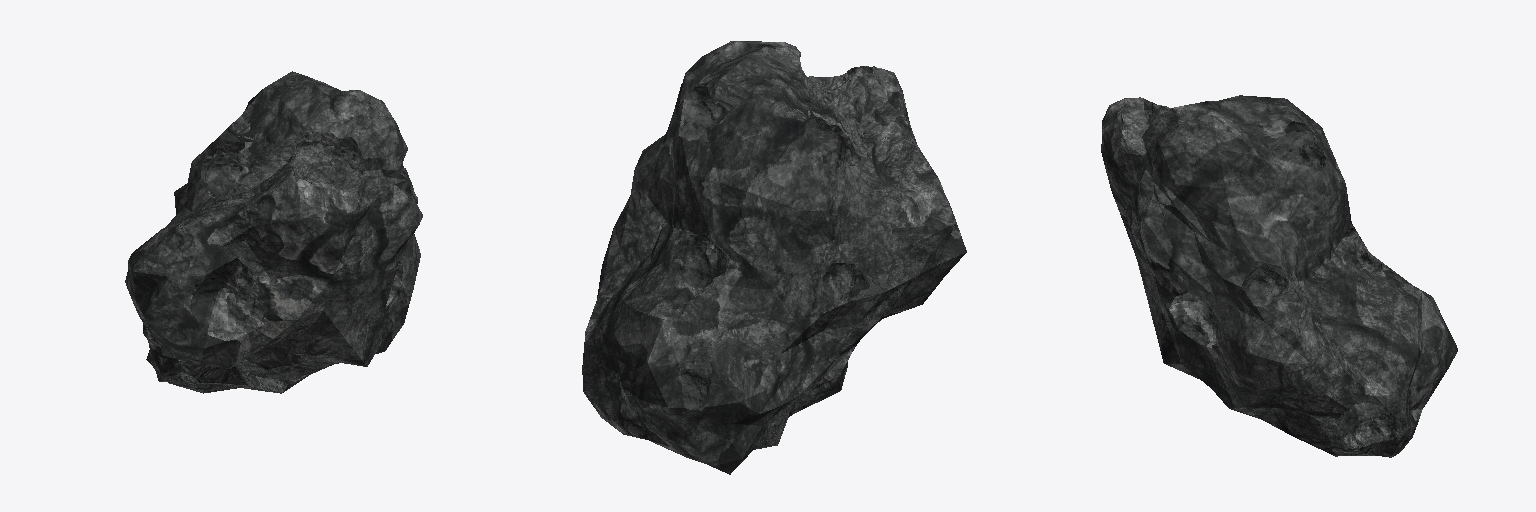
The picture shows the model from 3 angles: view 1: azimuth 30°, elevation 25°; view 2: azimuth 150°, elevation 25°; view 3: azimuth 270°, elevation 25°; orthographic projection.
Visible parts, largest first — view 1: Cube; view 2: Cube; view 3: Cube.
Part boxes in pixels (x1,y1,x2,y2): Cube: (125,71,422,393); Cube: (582,41,966,474); Cube: (1101,95,1457,457).
Size of the model in its own units: 10.98 by 11.76 by 10.91.
Materials: 1 (1 with a texture image).